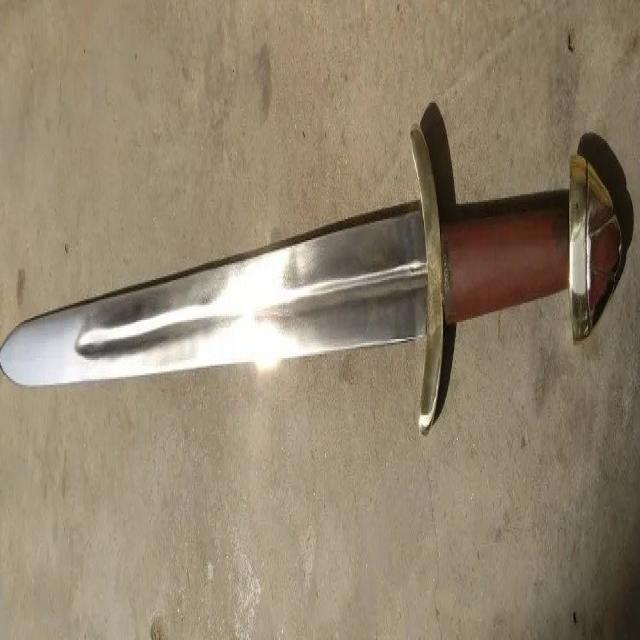short sword: (1, 87, 630, 480)
